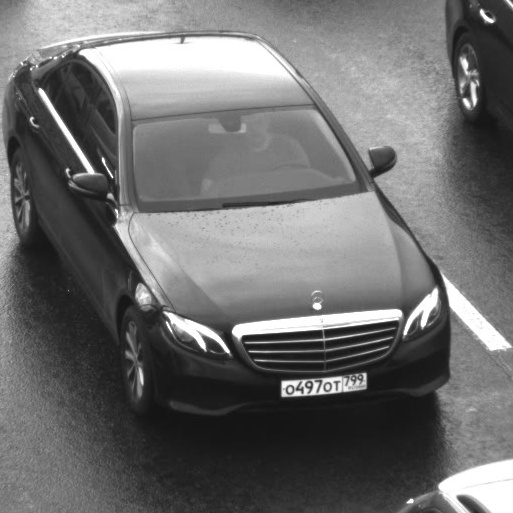plate: (268, 361, 377, 405)
